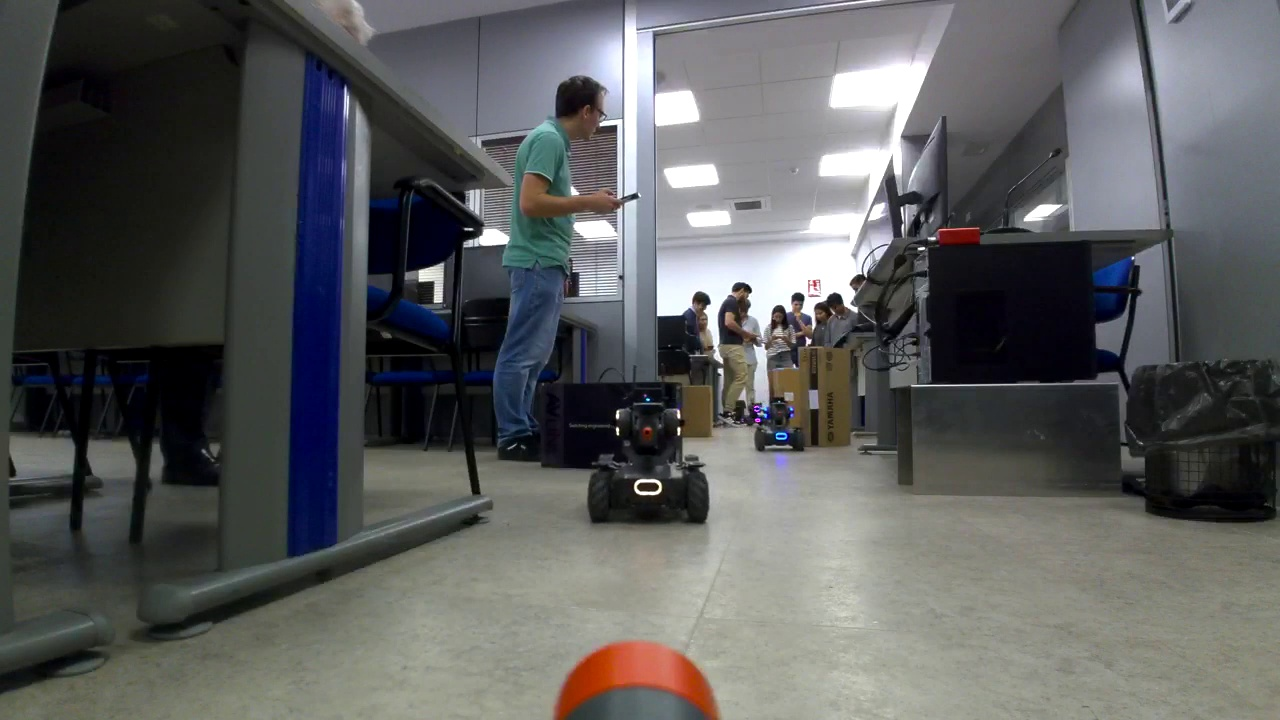robot: (583, 403, 708, 520), (757, 398, 802, 450), (753, 410, 767, 427)
